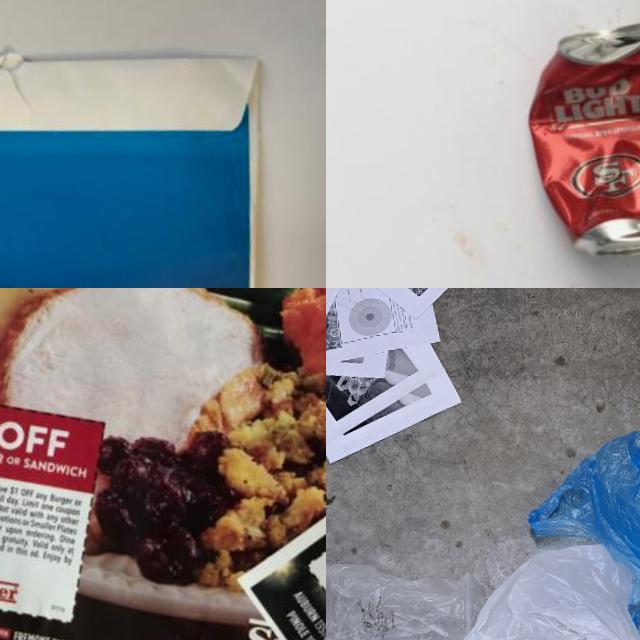lata: (519, 15, 640, 262)
papel: (0, 288, 326, 640), (0, 0, 281, 288), (326, 288, 524, 468)
sacola plástica: (523, 419, 640, 640), (461, 538, 640, 640), (326, 550, 497, 640)
